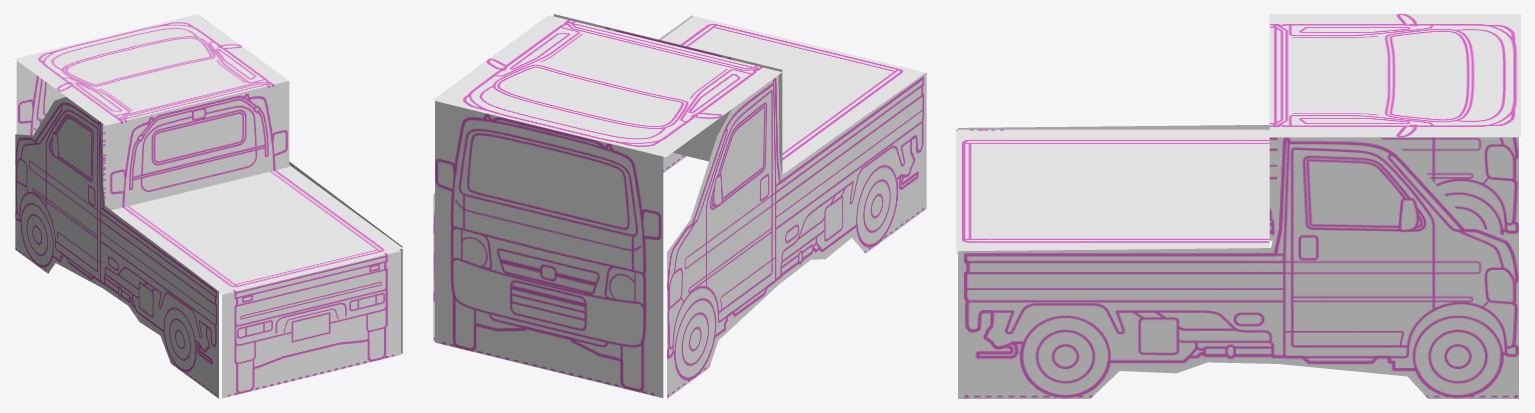
File: ref_car.glb
The picture shows the model from 3 angles, left to right: view 1: azimuth 30°, elevation 25°; view 2: azimuth 150°, elevation 25°; view 3: azimuth 270°, elevation 25°; orthographic projection. The views are drawn at different scales.
Parts seen in each view (by area): view 1: ref_car; view 2: ref_car; view 3: ref_car.
Part boxes in pixels (x1,y1,x2,y2): ref_car: (14,14,402,398); ref_car: (432,14,927,398); ref_car: (956,14,1520,398).
Bounding box in the file's own units: 1.49 × 1.48 × 2.89.
Materials: 1 (1 with a texture image).
